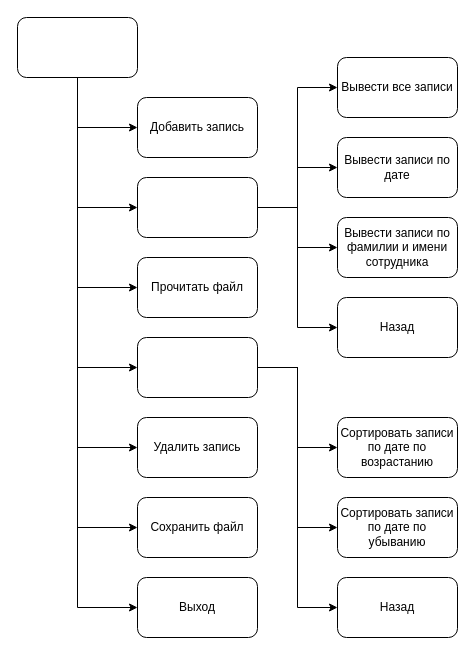
The diagram is 475 pixels wide and 655 high, and some of its shapes have lost their labels. The centre of each missing label's shape, as x and y in pixels:
"Модуль администратора" belongs at point (77, 47).
"Показать записи" belongs at point (197, 207).
"Сортировать записи" belongs at point (197, 367).
